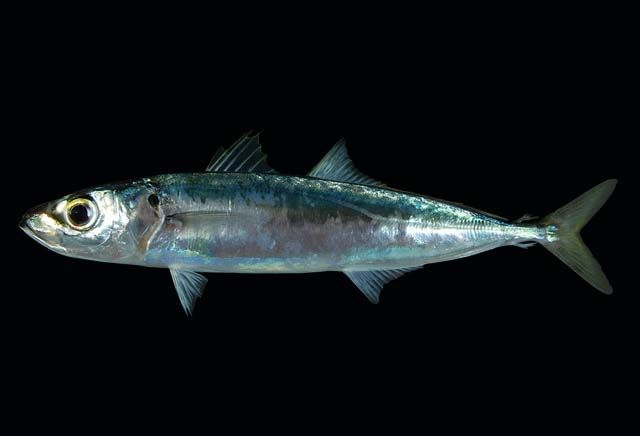fish: (21, 135, 617, 319)
